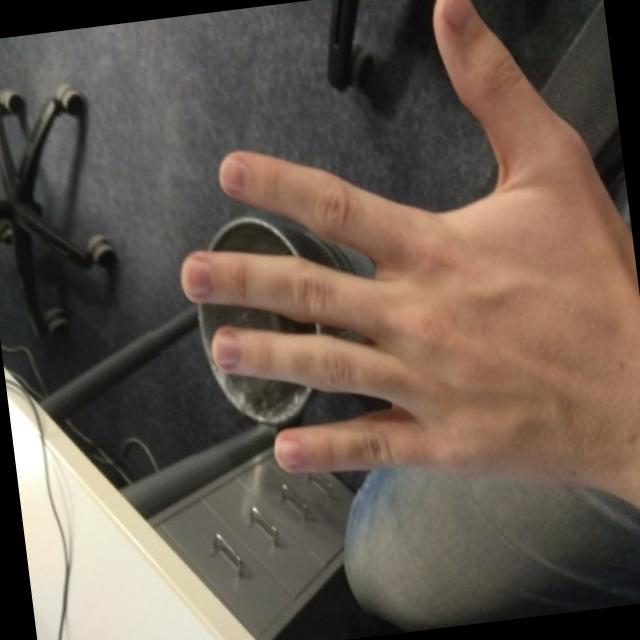Nail: (442, 0, 477, 35), (185, 256, 212, 294), (215, 330, 241, 364), (220, 156, 245, 190), (278, 440, 304, 465)
